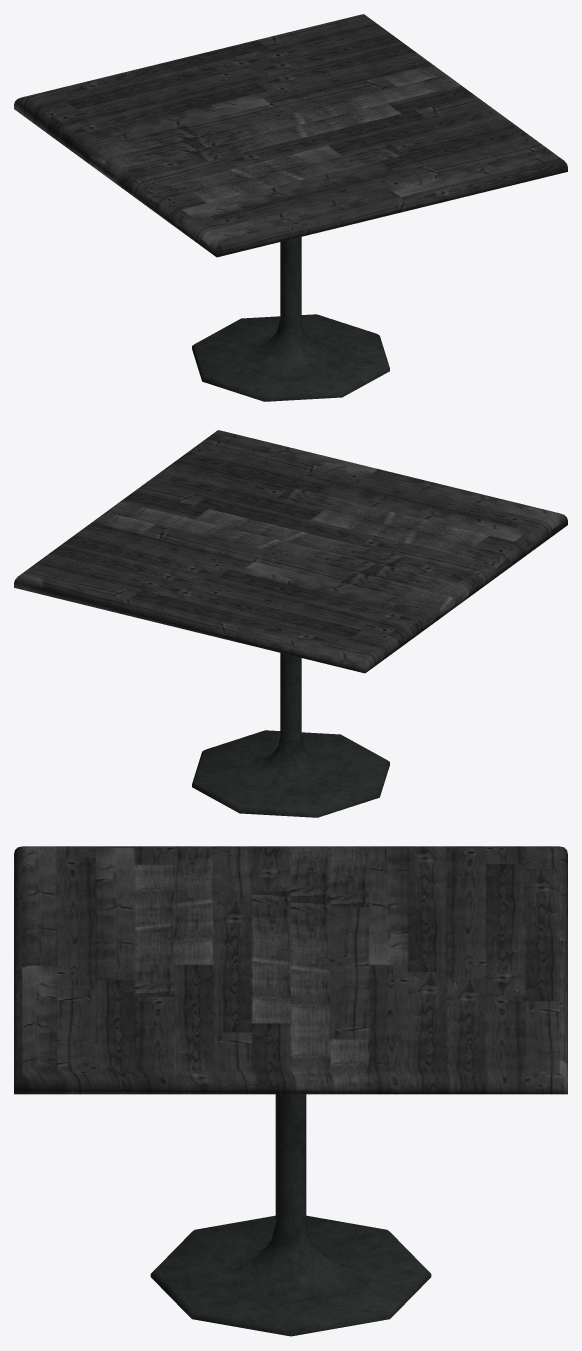
File: Tables_Restaurant_Tables_2.fbx
3 views of the same model, one above another, from view 1: azimuth 30°, elevation 25°; view 2: azimuth 150°, elevation 25°; view 3: azimuth 270°, elevation 25° (orthographic). The views are drawn at different scales.
Visible parts, largest first — view 1: Cube.016; view 2: Cube.016; view 3: Cube.016.
Part boxes in pixels (x1,y1,x2,y2): Cube.016: [14, 14, 567, 401]; Cube.016: [14, 430, 567, 817]; Cube.016: [14, 846, 567, 1336].
Bounding box in the file's own units: 144 × 90.97 × 144.
